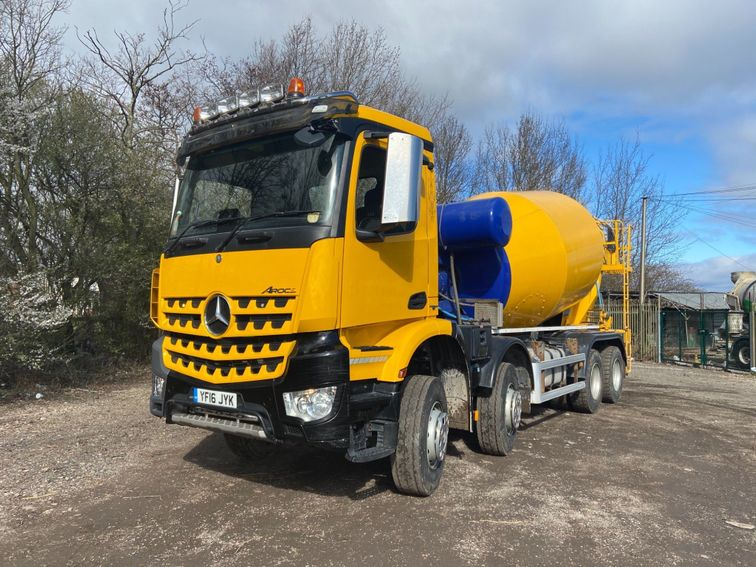Semi: (148, 77, 634, 499)
